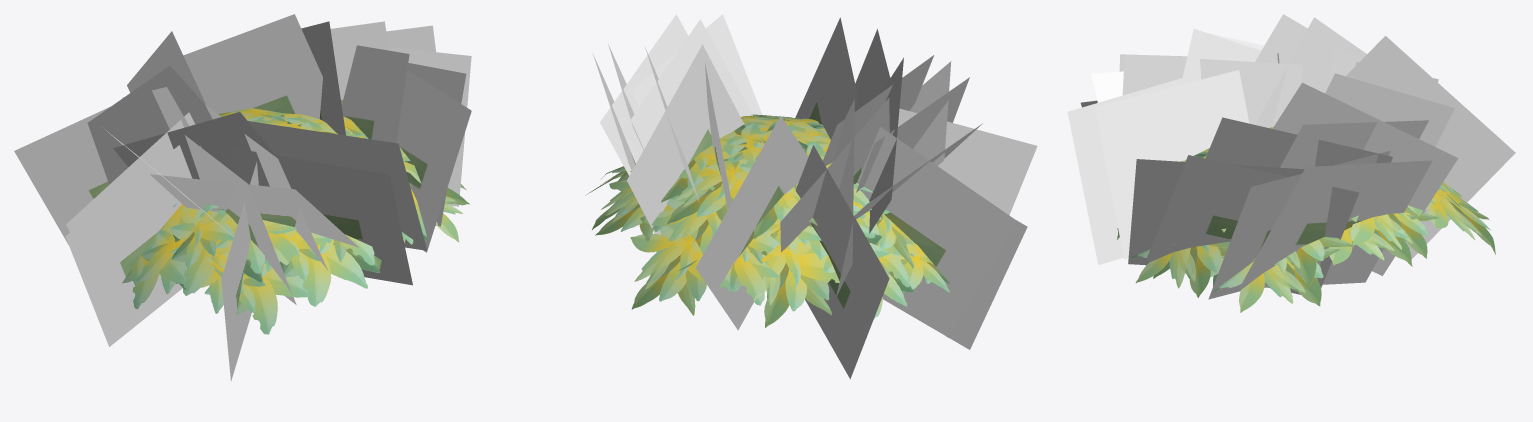
Rendered from feuilles.FBX.
The picture shows the model from 3 angles, left to right: view 1: azimuth 30°, elevation 25°; view 2: azimuth 150°, elevation 25°; view 3: azimuth 270°, elevation 25°; orthographic projection. The views are drawn at different scales.
Visible parts, largest first — view 1: Box002; view 2: Box002; view 3: Box002.
Boxes of the visible parts, x1,y1,x2,y2 form: Box002: (14, 14, 471, 381); Box002: (585, 14, 1037, 379); Box002: (1067, 14, 1515, 312).
Bounding box in the file's own units: 121 × 75.25 × 109.
